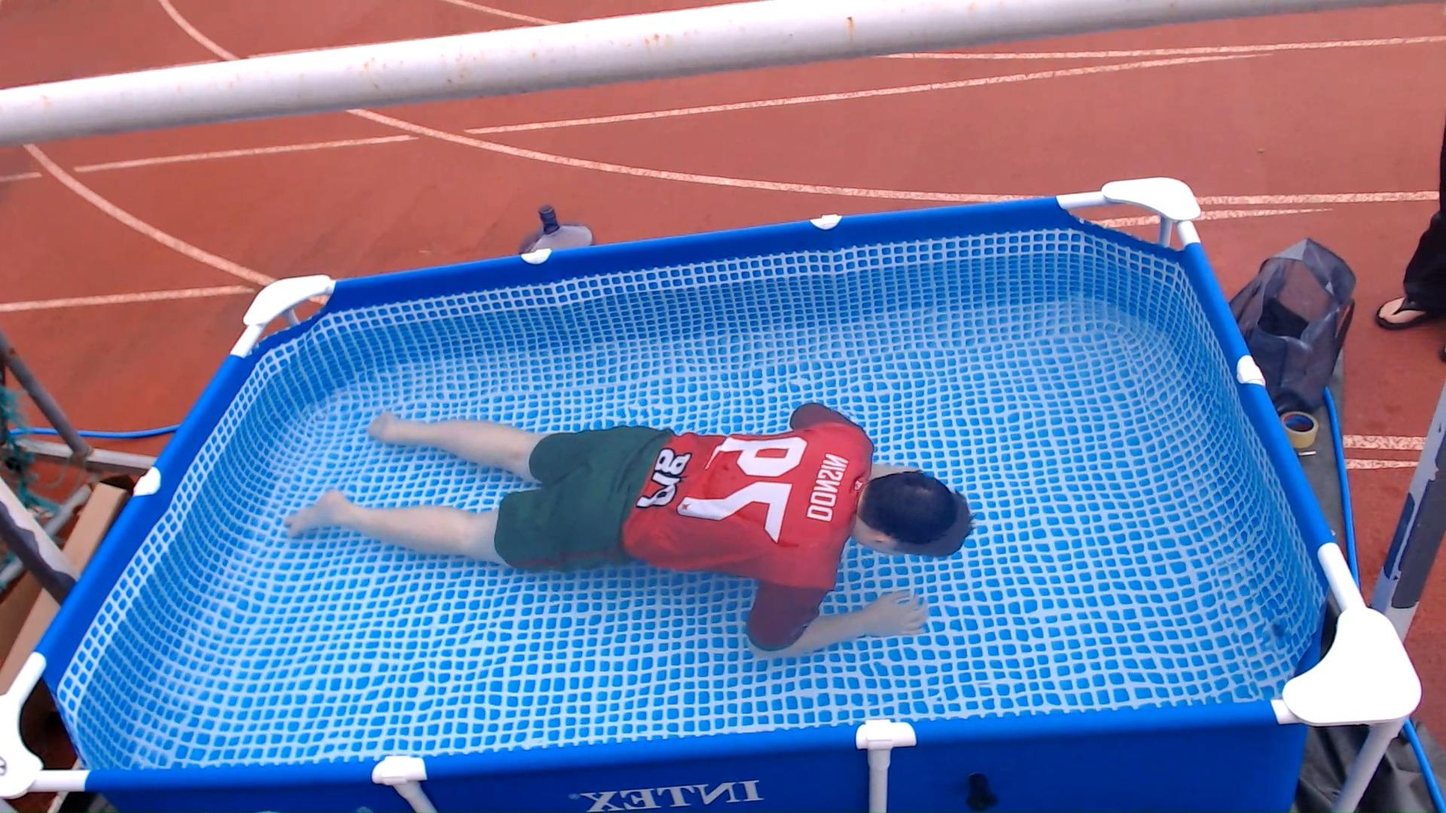Drowning: (202, 378, 1009, 700)
